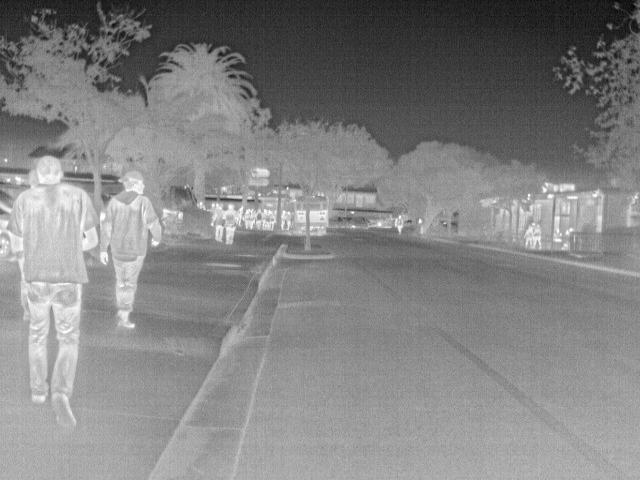person: (6, 154, 100, 424), (101, 170, 161, 330), (209, 199, 224, 242), (223, 204, 239, 244), (558, 225, 577, 251), (530, 224, 546, 250), (254, 205, 268, 231), (524, 225, 538, 247), (393, 211, 406, 233), (281, 208, 294, 230), (552, 226, 566, 242)
